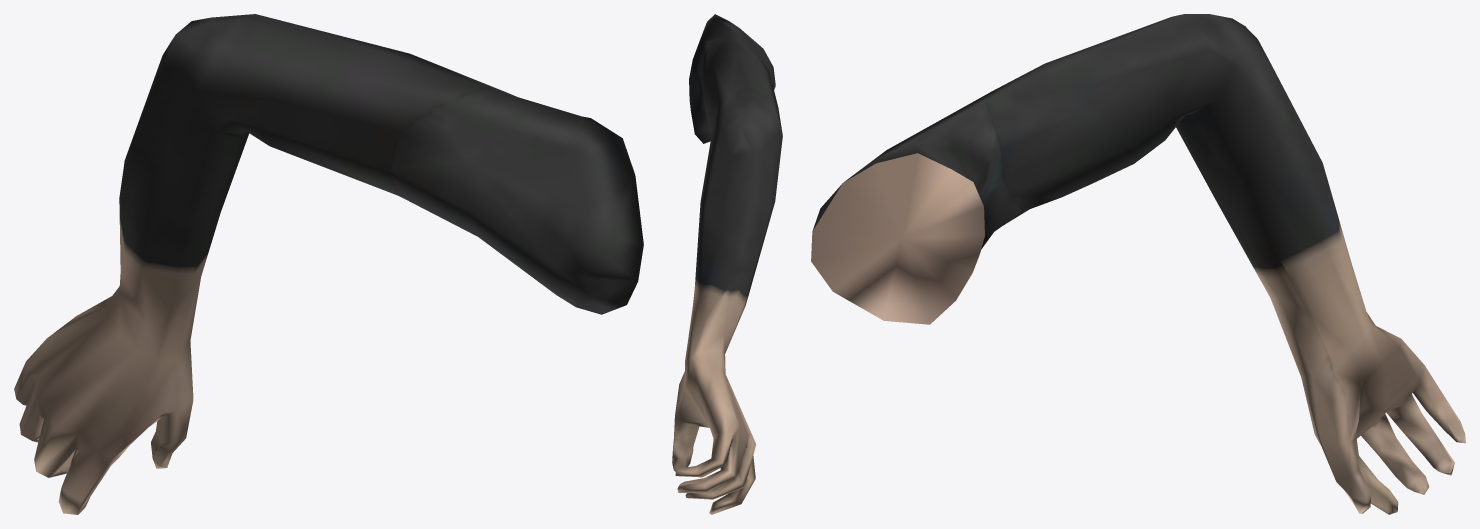
Rendered from dest_nt_nuked_female_05_arm_right_LOD1.obj.
The picture shows the model from 3 angles, left to right: view 1: azimuth 30°, elevation 25°; view 2: azimuth 150°, elevation 25°; view 3: azimuth 270°, elevation 25°; orthographic projection. The views are drawn at different scales.
Visible parts, largest first — view 1: mtl_nt_2020_manne_fem01_head2; view 2: mtl_nt_2020_manne_fem01_head2; view 3: mtl_nt_2020_manne_fem01_head2.
Boxes of the visible parts, box(x1,y1,x2,y2) form: mtl_nt_2020_manne_fem01_head2: box(14, 14, 643, 514); mtl_nt_2020_manne_fem01_head2: box(672, 14, 782, 514); mtl_nt_2020_manne_fem01_head2: box(811, 14, 1465, 514).
Bounding box in the file's own units: 24.03 × 40.13 × 45.43.
